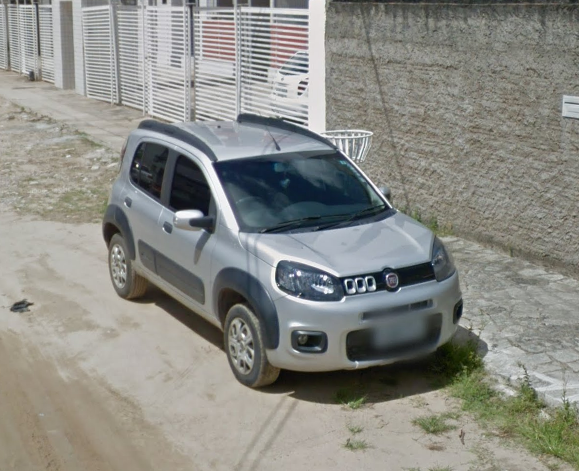car: (101, 111, 464, 390)
